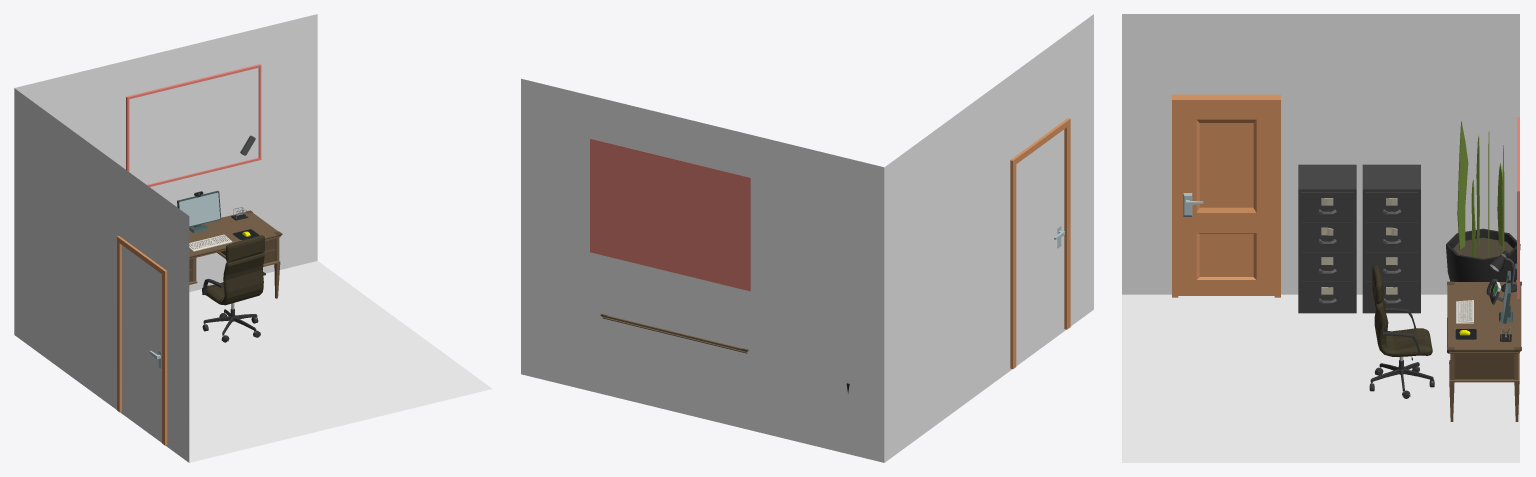
Rendered from room.glb.
3 renders of one model, left to right at view 1: azimuth 30°, elevation 25°; view 2: azimuth 150°, elevation 25°; view 3: azimuth 270°, elevation 25°, orthographic. The views are drawn at different scales.
Visible parts, largest first — view 1: Куб, White_board_Cube.045, Chair, Desk-V86Go2rlnq, doorway, Computer Screen; view 2: Куб, White_board_Cube.045, doorway, Desk-V86Go2rlnq; view 3: Куб, door, Desk-V86Go2rlnq, Houseplant_4, doorway, Chair, Main_.001, Main_, Draw.004, Draw.007, Draw, Draw.001 (+7 smaller).
Part boxes in pixels (x1=…): Куб: x1=14, y1=14, x2=492, y2=462; White_board_Cube.045: x1=126, y1=64, x2=261, y2=186; Chair: x1=202, y1=235, x2=265, y2=342; Desk-V86Go2rlnq: x1=189, y1=210, x2=282, y2=298; doorway: x1=117, y1=236, x2=167, y2=445; Computer Screen: x1=177, y1=190, x2=221, y2=233; Куб: x1=521, y1=14, x2=1093, y2=462; White_board_Cube.045: x1=590, y1=138, x2=750, y2=291; doorway: x1=1010, y1=118, x2=1070, y2=368; Desk-V86Go2rlnq: x1=600, y1=314, x2=748, y2=353; Куб: x1=1122, y1=14, x2=1519, y2=462; door: x1=1178, y1=105, x2=1274, y2=295; Desk-V86Go2rlnq: x1=1447, y1=281, x2=1521, y2=421; Houseplant_4: x1=1446, y1=121, x2=1520, y2=281; doorway: x1=1172, y1=94, x2=1280, y2=297; Chair: x1=1369, y1=265, x2=1434, y2=398; Main_.001: x1=1298, y1=164, x2=1356, y2=313; Main_: x1=1362, y1=164, x2=1420, y2=313; Draw.004: x1=1301, y1=281, x2=1353, y2=311; Draw.007: x1=1301, y1=192, x2=1353, y2=222; Draw: x1=1365, y1=192, x2=1417, y2=222; Draw.001: x1=1365, y1=222, x2=1417, y2=251.
Size of the model in its own units: 9.14 by 7.75 by 9.05.
47 materials, 4 textured.
